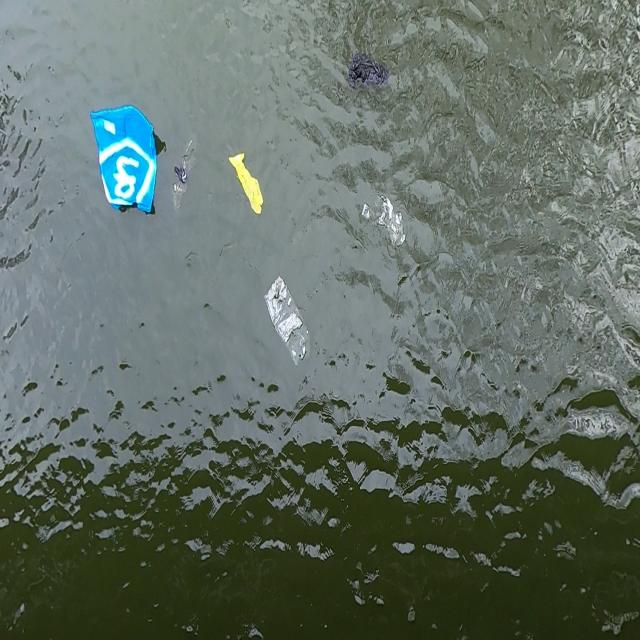Sac plastique: (89, 102, 164, 219), (263, 272, 314, 371), (362, 192, 410, 250), (228, 149, 268, 218), (345, 48, 393, 95), (172, 156, 196, 198)
